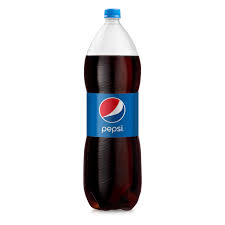pepsi_bottle: (83, 8, 143, 212)
